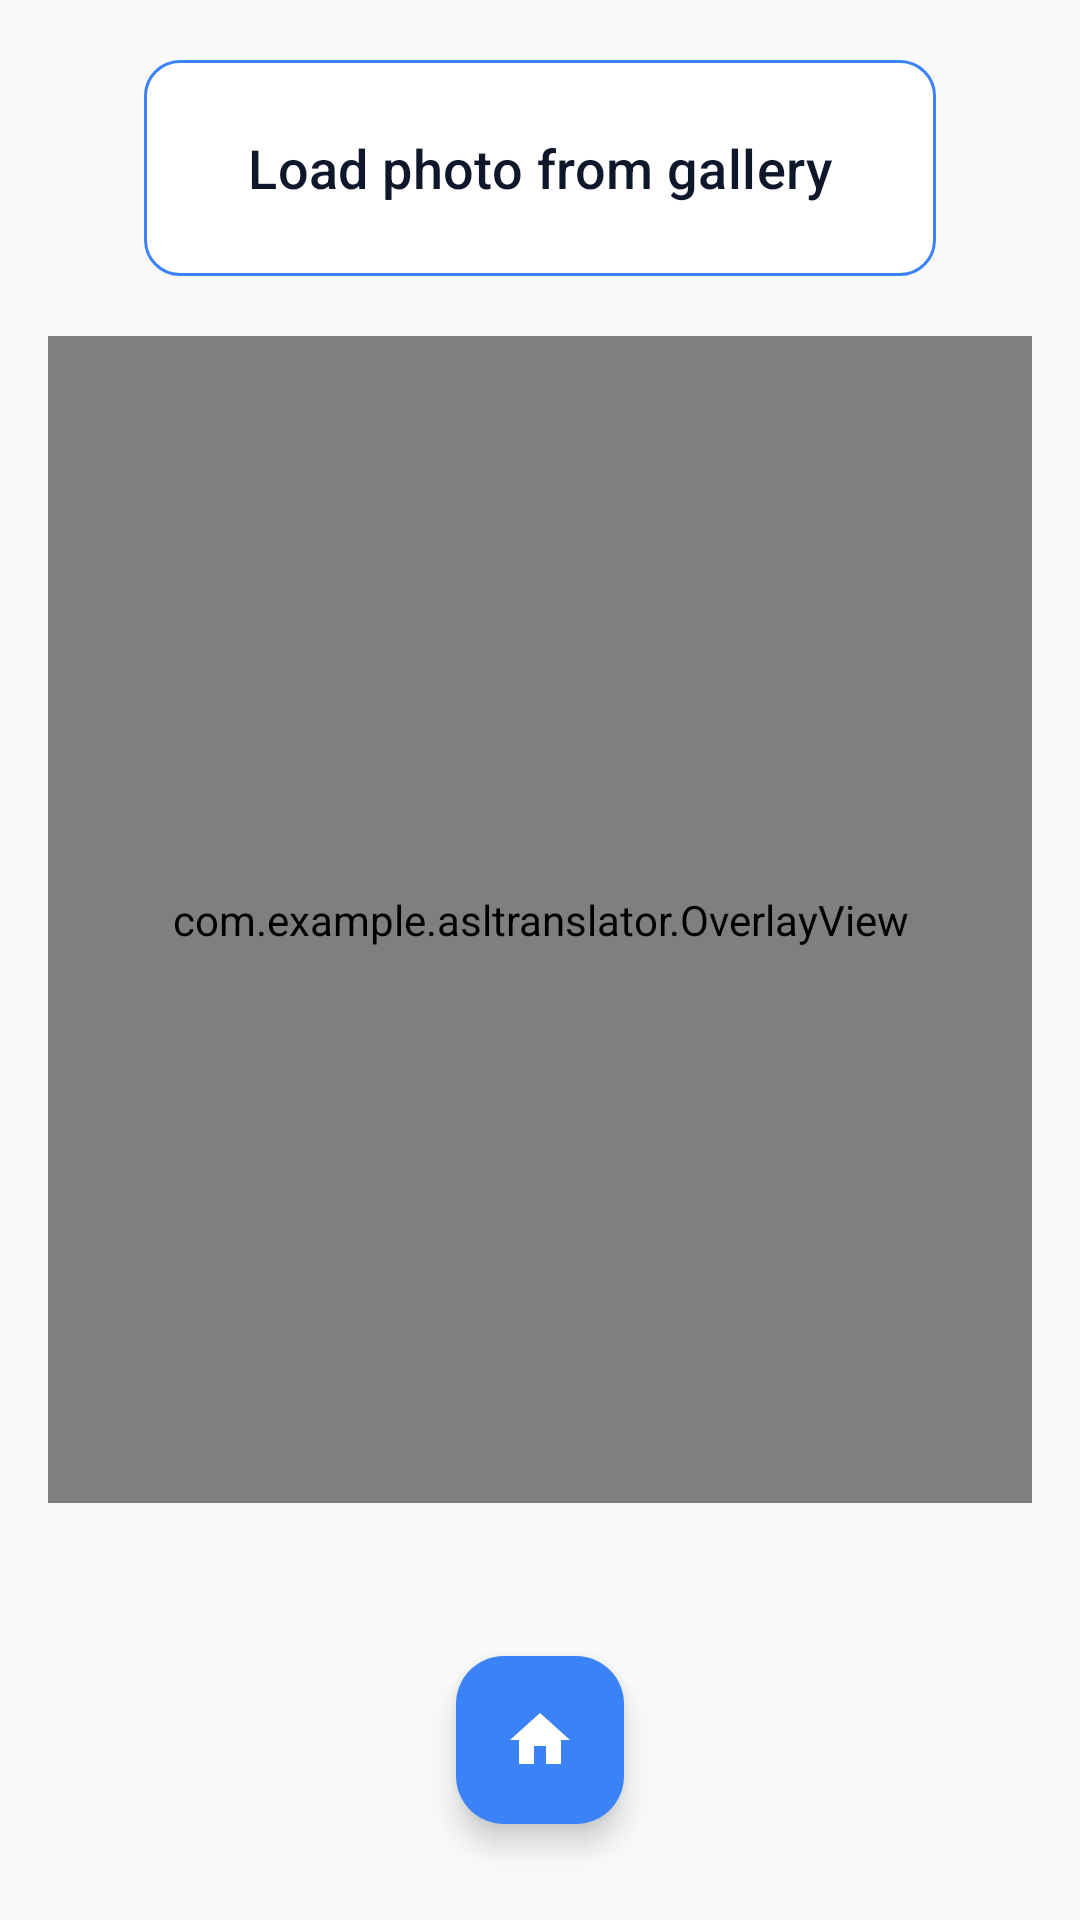

Named icons in this screenshot (1080x1920) and their centers, [x,y]:
Home: [540,1740]
